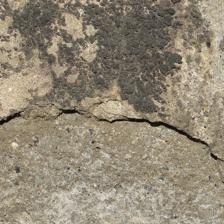Crack: (2, 52, 220, 110)
